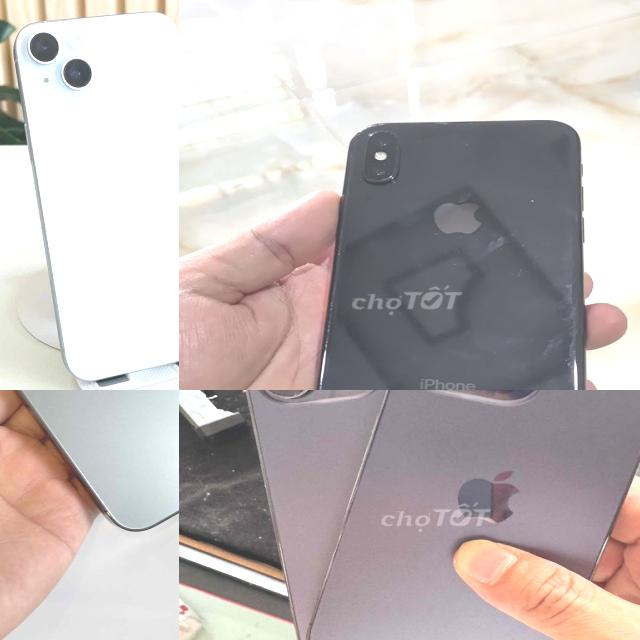gen_12_13: (0, 390, 179, 532)
gen_14: (306, 390, 640, 640)
gen_15: (0, 1, 179, 379)
gen_x_xs: (316, 121, 586, 390)
scratch: (488, 227, 578, 390), (311, 243, 349, 376), (502, 185, 548, 212), (383, 125, 413, 154), (381, 166, 410, 192), (450, 132, 478, 148)
